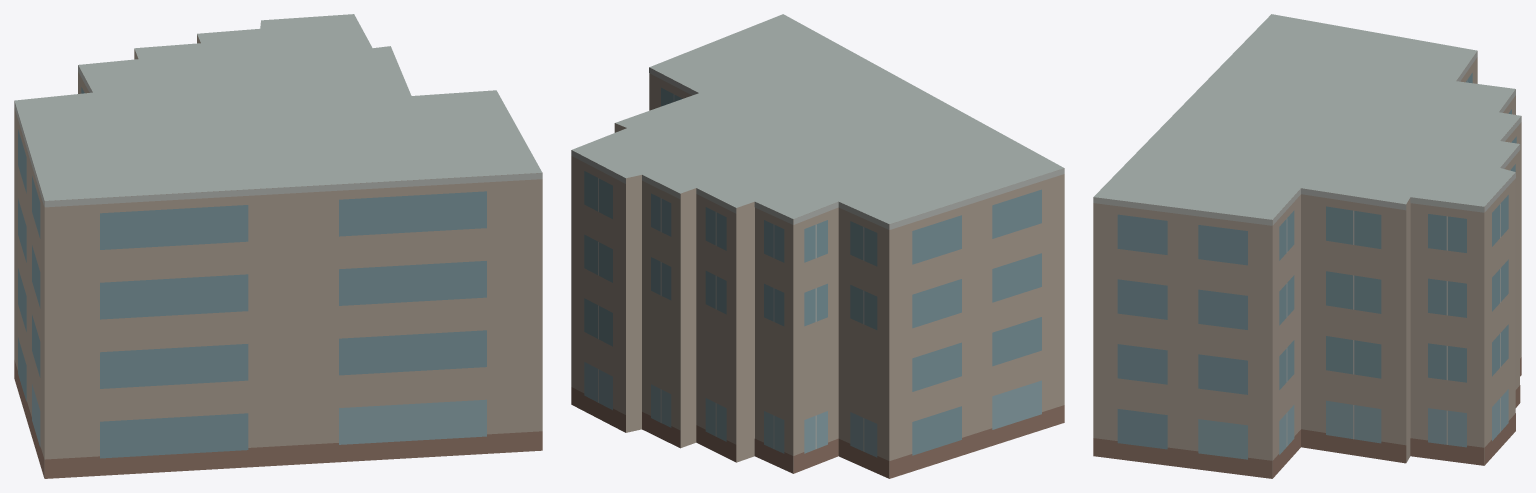
Rendered from survey-upis-32525641.glb.
The picture shows the model from 3 angles, left to right: view 1: azimuth 30°, elevation 25°; view 2: azimuth 150°, elevation 25°; view 3: azimuth 270°, elevation 25°; orthographic projection. The views are drawn at different scales.
Visible parts, largest first — view 1: survey-upis-32525641.tmp; view 2: survey-upis-32525641.tmp; view 3: survey-upis-32525641.tmp.
Boxes of the visible parts, bbox=[...] form: survey-upis-32525641.tmp: bbox=[14, 14, 542, 478]; survey-upis-32525641.tmp: bbox=[571, 14, 1064, 478]; survey-upis-32525641.tmp: bbox=[1093, 14, 1521, 478].
Size of the model in its own units: 18.08 by 10.6 by 15.89.
